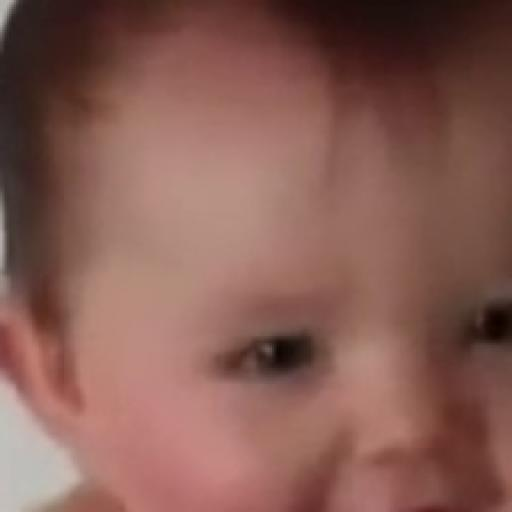Autism: (82, 66, 512, 512)
